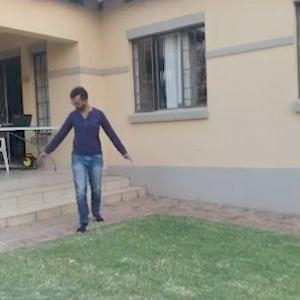land: (41, 82, 136, 238)
